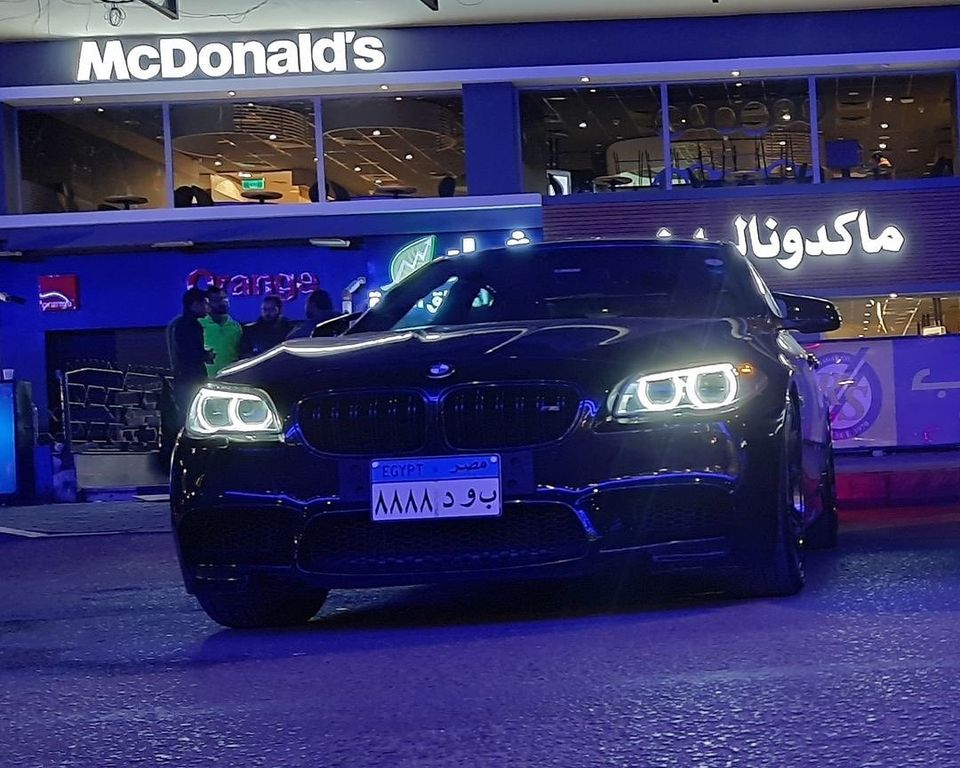carpl: (369, 466, 503, 522)
